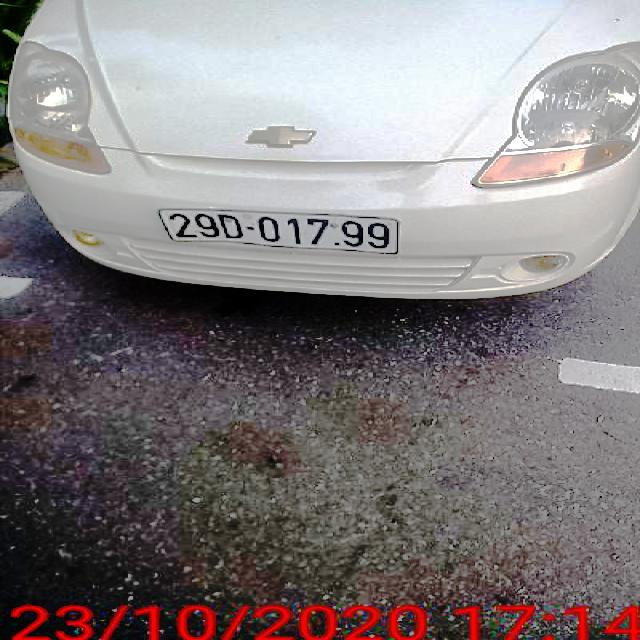license_plate: (164, 210, 401, 251)
